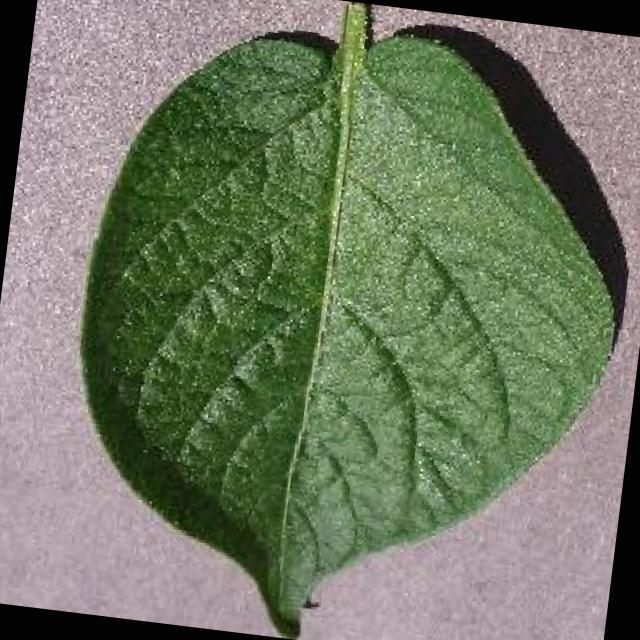healthy: (85, 4, 614, 639)
